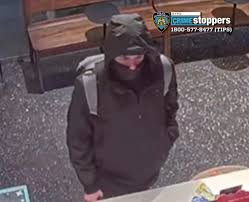terrorist: (7, 9, 249, 177)
